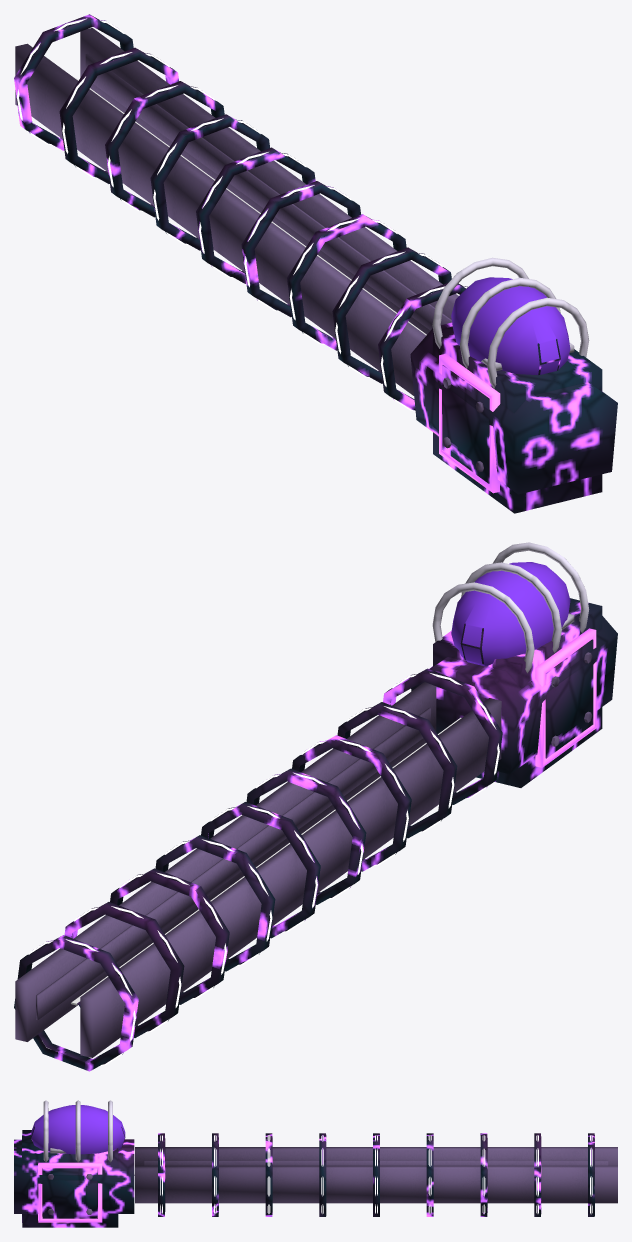
File: railgun_t5.fbx
3 renders of one model, top to bottom at view 1: azimuth 30°, elevation 25°; view 2: azimuth 150°, elevation 25°; view 3: azimuth 270°, elevation 25°, orthographic. The views are drawn at different scales.
Parts seen in each view (by area): view 1: railgun_t5, railgun_t5_cristal, railgun_t5_neon; view 2: railgun_t5, railgun_t5_cristal, railgun_t5_neon; view 3: railgun_t5, railgun_t5_cristal, railgun_t5_neon.
Part boxes in pixels (x1,y1,x2,y2): railgun_t5: (14,14,617,513); railgun_t5_cristal: (451,277,570,374); railgun_t5_neon: (17,18,467,411); railgun_t5: (14,542,617,1071); railgun_t5_cristal: (451,562,570,666); railgun_t5_neon: (28,673,499,1065); railgun_t5: (14,1100,617,1227); railgun_t5_cristal: (31,1105,125,1154); railgun_t5_neon: (160,1135,592,1214).
Bounding box in the file's own units: 2.03 × 3.05 × 14.99.
